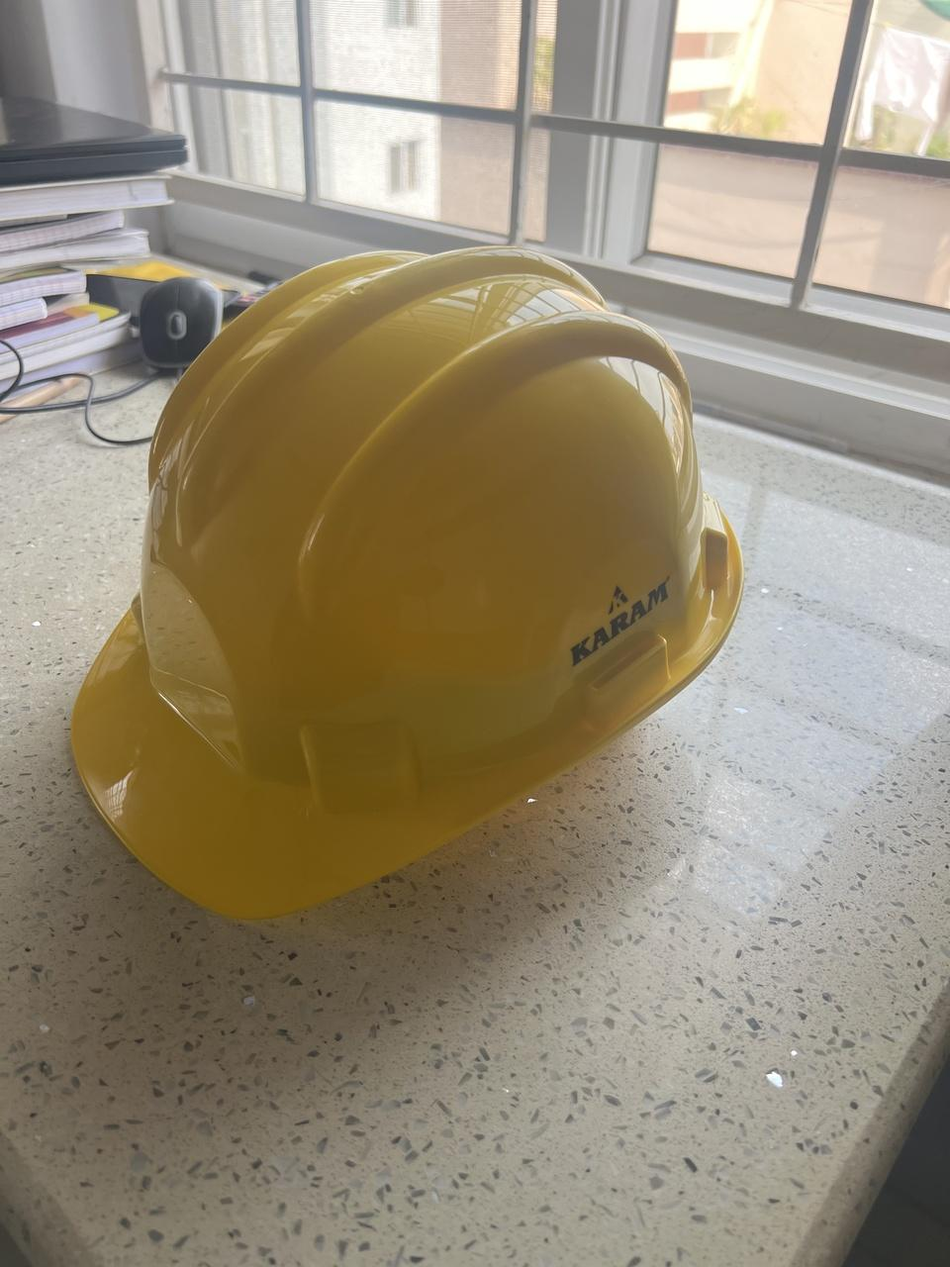Helmet: (65, 242, 744, 919)
